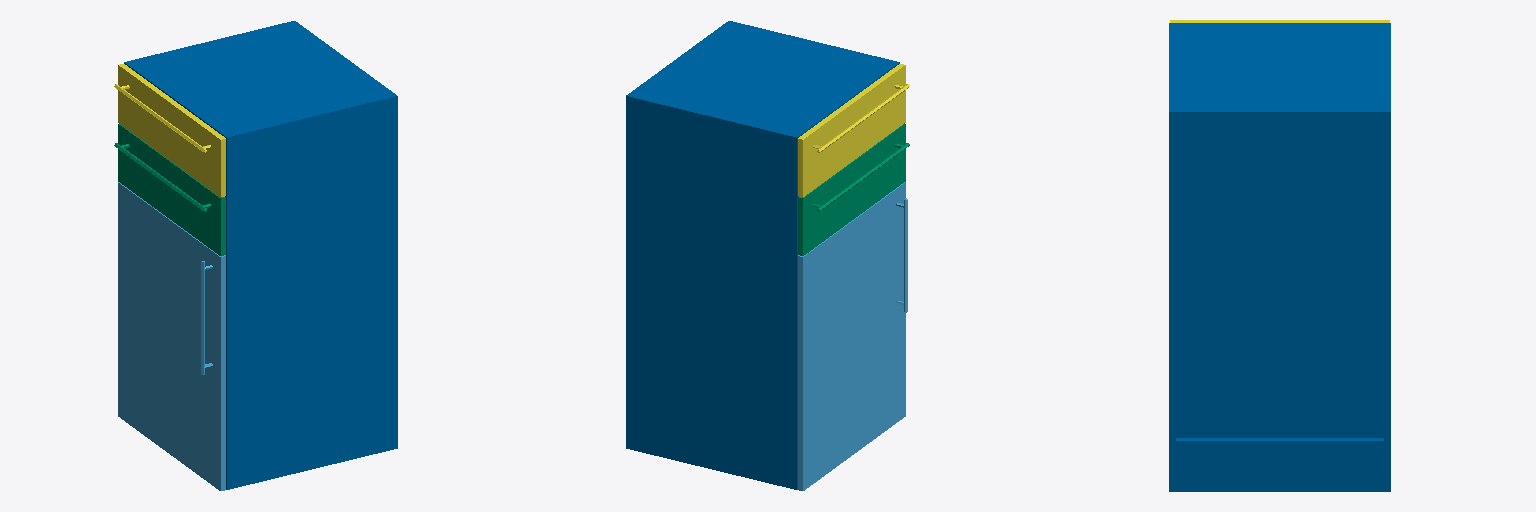
robot.urdf — partnet_2b37f9944a63ba4b4c3aee8e9d3a6ffa:
<?xml version="1.0" ?>
<robot name="partnet_2b37f9944a63ba4b4c3aee8e9d3a6ffa">
	<link name="base"/>
	<link name="link_0">
		<visual name="cabinet_door_surface-9">
			<origin xyz="0.3990322923139692 0.8448920249938966 -0.3754050304999294"/>
			<geometry>
				<mesh filename="textured_objs/original-36.obj"/>
			</geometry>
		</visual>
		<visual name="handle-10">
			<origin xyz="0.3990322923139692 0.8448920249938966 -0.3754050304999294"/>
			<geometry>
				<mesh filename="textured_objs/original-38.obj"/>
			</geometry>
		</visual>
		<visual name="handle-10">
			<origin xyz="0.3990322923139692 0.8448920249938966 -0.3754050304999294"/>
			<geometry>
				<mesh filename="textured_objs/original-39.obj"/>
			</geometry>
		</visual>
		<visual name="handle-10">
			<origin xyz="0.3990322923139692 0.8448920249938966 -0.3754050304999294"/>
			<geometry>
				<mesh filename="textured_objs/original-40.obj"/>
			</geometry>
		</visual>
		<collision>
			<origin xyz="0.3990322923139692 0.8448920249938966 -0.3754050304999294"/>
			<geometry>
				<mesh filename="textured_objs/original-36.obj"/>
			</geometry>
		</collision>
		<collision>
			<origin xyz="0.3990322923139692 0.8448920249938966 -0.3754050304999294"/>
			<geometry>
				<mesh filename="textured_objs/original-38.obj"/>
			</geometry>
		</collision>
		<collision>
			<origin xyz="0.3990322923139692 0.8448920249938966 -0.3754050304999294"/>
			<geometry>
				<mesh filename="textured_objs/original-39.obj"/>
			</geometry>
		</collision>
		<collision>
			<origin xyz="0.3990322923139692 0.8448920249938966 -0.3754050304999294"/>
			<geometry>
				<mesh filename="textured_objs/original-40.obj"/>
			</geometry>
		</collision>
	</link>
	<joint name="joint_0" type="revolute">
		<origin xyz="-0.3990322923139692 -0.8448920249938966 0.3754050304999294"/>
		<axis xyz="0 -1 0"/>
		<child link="link_0"/>
		<parent link="link_3"/>
		<limit lower="0.0" upper="1.6022122533307945"/>
	</joint>
	<link name="link_1">
		<visual name="drawer_front-29">
			<origin xyz="-0.02282584888658025 -0.27756666188211254 0.3846589922904968"/>
			<geometry>
				<mesh filename="textured_objs/original-25.obj"/>
			</geometry>
		</visual>
		<visual name="drawer_front-29">
			<origin xyz="-0.02282584888658025 -0.27756666188211254 0.3846589922904968"/>
			<geometry>
				<mesh filename="textured_objs/original-18.obj"/>
			</geometry>
		</visual>
		<visual name="drawer_side-30">
			<origin xyz="-0.02282584888658025 -0.27756666188211254 0.3846589922904968"/>
			<geometry>
				<mesh filename="textured_objs/original-23.obj"/>
			</geometry>
		</visual>
		<visual name="drawer_side-31">
			<origin xyz="-0.02282584888658025 -0.27756666188211254 0.3846589922904968"/>
			<geometry>
				<mesh filename="textured_objs/original-24.obj"/>
			</geometry>
		</visual>
		<visual name="drawer_back-32">
			<origin xyz="-0.02282584888658025 -0.27756666188211254 0.3846589922904968"/>
			<geometry>
				<mesh filename="textured_objs/original-26.obj"/>
			</geometry>
		</visual>
		<visual name="drawer_bottom-33">
			<origin xyz="-0.02282584888658025 -0.27756666188211254 0.3846589922904968"/>
			<geometry>
				<mesh filename="textured_objs/original-21.obj"/>
			</geometry>
		</visual>
		<visual name="drawer_bottom-33">
			<origin xyz="-0.02282584888658025 -0.27756666188211254 0.3846589922904968"/>
			<geometry>
				<mesh filename="textured_objs/original-22.obj"/>
			</geometry>
		</visual>
		<visual name="handle-26">
			<origin xyz="-0.02282584888658025 -0.27756666188211254 0.3846589922904968"/>
			<geometry>
				<mesh filename="textured_objs/original-30.obj"/>
			</geometry>
		</visual>
		<visual name="handle-26">
			<origin xyz="-0.02282584888658025 -0.27756666188211254 0.3846589922904968"/>
			<geometry>
				<mesh filename="textured_objs/original-31.obj"/>
			</geometry>
		</visual>
		<visual name="handle-26">
			<origin xyz="-0.02282584888658025 -0.27756666188211254 0.3846589922904968"/>
			<geometry>
				<mesh filename="textured_objs/original-32.obj"/>
			</geometry>
		</visual>
		<visual name="drawer_slider-27">
			<origin xyz="-0.02282584888658025 -0.27756666188211254 0.3846589922904968"/>
			<geometry>
				<mesh filename="textured_objs/original-28.obj"/>
			</geometry>
		</visual>
		<visual name="drawer_slider-28">
			<origin xyz="-0.02282584888658025 -0.27756666188211254 0.3846589922904968"/>
			<geometry>
				<mesh filename="textured_objs/original-27.obj"/>
			</geometry>
		</visual>
		<collision>
			<origin xyz="-0.02282584888658025 -0.27756666188211254 0.3846589922904968"/>
			<geometry>
				<mesh filename="textured_objs/original-25.obj"/>
			</geometry>
		</collision>
		<collision>
			<origin xyz="-0.02282584888658025 -0.27756666188211254 0.3846589922904968"/>
			<geometry>
				<mesh filename="textured_objs/original-18.obj"/>
			</geometry>
		</collision>
		<collision>
			<origin xyz="-0.02282584888658025 -0.27756666188211254 0.3846589922904968"/>
			<geometry>
				<mesh filename="textured_objs/original-23.obj"/>
			</geometry>
		</collision>
		<collision>
			<origin xyz="-0.02282584888658025 -0.27756666188211254 0.3846589922904968"/>
			<geometry>
				<mesh filename="textured_objs/original-24.obj"/>
			</geometry>
		</collision>
		<collision>
			<origin xyz="-0.02282584888658025 -0.27756666188211254 0.3846589922904968"/>
			<geometry>
				<mesh filename="textured_objs/original-26.obj"/>
			</geometry>
		</collision>
		<collision>
			<origin xyz="-0.02282584888658025 -0.27756666188211254 0.3846589922904968"/>
			<geometry>
				<mesh filename="textured_objs/original-21.obj"/>
			</geometry>
		</collision>
		<collision>
			<origin xyz="-0.02282584888658025 -0.27756666188211254 0.3846589922904968"/>
			<geometry>
				<mesh filename="textured_objs/original-22.obj"/>
			</geometry>
		</collision>
		<collision>
			<origin xyz="-0.02282584888658025 -0.27756666188211254 0.3846589922904968"/>
			<geometry>
				<mesh filename="textured_objs/original-30.obj"/>
			</geometry>
		</collision>
		<collision>
			<origin xyz="-0.02282584888658025 -0.27756666188211254 0.3846589922904968"/>
			<geometry>
				<mesh filename="textured_objs/original-31.obj"/>
			</geometry>
		</collision>
		<collision>
			<origin xyz="-0.02282584888658025 -0.27756666188211254 0.3846589922904968"/>
			<geometry>
				<mesh filename="textured_objs/original-32.obj"/>
			</geometry>
		</collision>
		<collision>
			<origin xyz="-0.02282584888658025 -0.27756666188211254 0.3846589922904968"/>
			<geometry>
				<mesh filename="textured_objs/original-28.obj"/>
			</geometry>
		</collision>
		<collision>
			<origin xyz="-0.02282584888658025 -0.27756666188211254 0.3846589922904968"/>
			<geometry>
				<mesh filename="textured_objs/original-27.obj"/>
			</geometry>
		</collision>
	</link>
	<joint name="joint_1" type="prismatic">
		<origin xyz="0.02282584888658025 0.27756666188211254 -0.3846589922904968"/>
		<axis xyz="0 0 1"/>
		<child link="link_1"/>
		<parent link="link_3"/>
		<limit lower="0" upper="0.6600000000000001"/>
	</joint>
	<link name="link_2">
		<visual name="drawer_front-18">
			<origin xyz="-0.022883973265345255 -0.5506872722285259 0.38465899229049705"/>
			<geometry>
				<mesh filename="textured_objs/original-49.obj"/>
			</geometry>
		</visual>
		<visual name="drawer_front-18">
			<origin xyz="-0.022883973265345255 -0.5506872722285259 0.38465899229049705"/>
			<geometry>
				<mesh filename="textured_objs/original-42.obj"/>
			</geometry>
		</visual>
		<visual name="drawer_side-19">
			<origin xyz="-0.022883973265345255 -0.5506872722285259 0.38465899229049705"/>
			<geometry>
				<mesh filename="textured_objs/original-48.obj"/>
			</geometry>
		</visual>
		<visual name="drawer_side-20">
			<origin xyz="-0.022883973265345255 -0.5506872722285259 0.38465899229049705"/>
			<geometry>
				<mesh filename="textured_objs/original-47.obj"/>
			</geometry>
		</visual>
		<visual name="drawer_back-21">
			<origin xyz="-0.022883973265345255 -0.5506872722285259 0.38465899229049705"/>
			<geometry>
				<mesh filename="textured_objs/original-50.obj"/>
			</geometry>
		</visual>
		<visual name="drawer_bottom-22">
			<origin xyz="-0.022883973265345255 -0.5506872722285259 0.38465899229049705"/>
			<geometry>
				<mesh filename="textured_objs/original-45.obj"/>
			</geometry>
		</visual>
		<visual name="drawer_bottom-22">
			<origin xyz="-0.022883973265345255 -0.5506872722285259 0.38465899229049705"/>
			<geometry>
				<mesh filename="textured_objs/original-46.obj"/>
			</geometry>
		</visual>
		<visual name="handle-8">
			<origin xyz="-0.022883973265345255 -0.5506872722285259 0.38465899229049705"/>
			<geometry>
				<mesh filename="textured_objs/original-54.obj"/>
			</geometry>
		</visual>
		<visual name="handle-8">
			<origin xyz="-0.022883973265345255 -0.5506872722285259 0.38465899229049705"/>
			<geometry>
				<mesh filename="textured_objs/original-55.obj"/>
			</geometry>
		</visual>
		<visual name="handle-8">
			<origin xyz="-0.022883973265345255 -0.5506872722285259 0.38465899229049705"/>
			<geometry>
				<mesh filename="textured_objs/original-56.obj"/>
			</geometry>
		</visual>
		<visual name="drawer_slider-23">
			<origin xyz="-0.022883973265345255 -0.5506872722285259 0.38465899229049705"/>
			<geometry>
				<mesh filename="textured_objs/original-52.obj"/>
			</geometry>
		</visual>
		<visual name="drawer_slider-24">
			<origin xyz="-0.022883973265345255 -0.5506872722285259 0.38465899229049705"/>
			<geometry>
				<mesh filename="textured_objs/original-51.obj"/>
			</geometry>
		</visual>
		<collision>
			<origin xyz="-0.022883973265345255 -0.5506872722285259 0.38465899229049705"/>
			<geometry>
				<mesh filename="textured_objs/original-49.obj"/>
			</geometry>
		</collision>
		<collision>
			<origin xyz="-0.022883973265345255 -0.5506872722285259 0.38465899229049705"/>
			<geometry>
				<mesh filename="textured_objs/original-42.obj"/>
			</geometry>
		</collision>
		<collision>
			<origin xyz="-0.022883973265345255 -0.5506872722285259 0.38465899229049705"/>
			<geometry>
				<mesh filename="textured_objs/original-48.obj"/>
			</geometry>
		</collision>
		<collision>
			<origin xyz="-0.022883973265345255 -0.5506872722285259 0.38465899229049705"/>
			<geometry>
				<mesh filename="textured_objs/original-47.obj"/>
			</geometry>
		</collision>
		<collision>
			<origin xyz="-0.022883973265345255 -0.5506872722285259 0.38465899229049705"/>
			<geometry>
				<mesh filename="textured_objs/original-50.obj"/>
			</geometry>
		</collision>
		<collision>
			<origin xyz="-0.022883973265345255 -0.5506872722285259 0.38465899229049705"/>
			<geometry>
				<mesh filename="textured_objs/original-45.obj"/>
			</geometry>
		</collision>
		<collision>
			<origin xyz="-0.022883973265345255 -0.5506872722285259 0.38465899229049705"/>
			<geometry>
				<mesh filename="textured_objs/original-46.obj"/>
			</geometry>
		</collision>
		<collision>
			<origin xyz="-0.022883973265345255 -0.5506872722285259 0.38465899229049705"/>
			<geometry>
				<mesh filename="textured_objs/original-54.obj"/>
			</geometry>
		</collision>
		<collision>
			<origin xyz="-0.022883973265345255 -0.5506872722285259 0.38465899229049705"/>
			<geometry>
				<mesh filename="textured_objs/original-55.obj"/>
			</geometry>
		</collision>
		<collision>
			<origin xyz="-0.022883973265345255 -0.5506872722285259 0.38465899229049705"/>
			<geometry>
				<mesh filename="textured_objs/original-56.obj"/>
			</geometry>
		</collision>
		<collision>
			<origin xyz="-0.022883973265345255 -0.5506872722285259 0.38465899229049705"/>
			<geometry>
				<mesh filename="textured_objs/original-52.obj"/>
			</geometry>
		</collision>
		<collision>
			<origin xyz="-0.022883973265345255 -0.5506872722285259 0.38465899229049705"/>
			<geometry>
				<mesh filename="textured_objs/original-51.obj"/>
			</geometry>
		</collision>
	</link>
	<joint name="joint_2" type="prismatic">
		<origin xyz="0.022883973265345255 0.5506872722285259 -0.38465899229049705"/>
		<axis xyz="0 0 1"/>
		<child link="link_2"/>
		<parent link="link_3"/>
		<limit lower="0" upper="0.6600000000000001"/>
	</joint>
	<link name="link_3">
		<visual name="shelf-3">
			<origin xyz="0 0 0"/>
			<geometry>
				<mesh filename="textured_objs/original-34.obj"/>
			</geometry>
		</visual>
		<visual name="vertical_side_panel-11">
			<origin xyz="0 0 0"/>
			<geometry>
				<mesh filename="textured_objs/original-7.obj"/>
			</geometry>
		</visual>
		<visual name="vertical_side_panel-11">
			<origin xyz="0 0 0"/>
			<geometry>
				<mesh filename="textured_objs/original-6.obj"/>
			</geometry>
		</visual>
		<visual name="vertical_side_panel-12">
			<origin xyz="0 0 0"/>
			<geometry>
				<mesh filename="textured_objs/original-4.obj"/>
			</geometry>
		</visual>
		<visual name="vertical_side_panel-12">
			<origin xyz="0 0 0"/>
			<geometry>
				<mesh filename="textured_objs/original-3.obj"/>
			</geometry>
		</visual>
		<visual name="back_panel-13">
			<origin xyz="0 0 0"/>
			<geometry>
				<mesh filename="textured_objs/original-15.obj"/>
			</geometry>
		</visual>
		<visual name="bottom_panel-14">
			<origin xyz="0 0 0"/>
			<geometry>
				<mesh filename="textured_objs/original-10.obj"/>
			</geometry>
		</visual>
		<visual name="bottom_panel-14">
			<origin xyz="0 0 0"/>
			<geometry>
				<mesh filename="textured_objs/original-9.obj"/>
			</geometry>
		</visual>
		<visual name="top_panel-15">
			<origin xyz="0 0 0"/>
			<geometry>
				<mesh filename="textured_objs/original-13.obj"/>
			</geometry>
		</visual>
		<visual name="top_panel-15">
			<origin xyz="0 0 0"/>
			<geometry>
				<mesh filename="textured_objs/original-12.obj"/>
			</geometry>
		</visual>
		<visual name="frame_horizontal_bar-16">
			<origin xyz="0 0 0"/>
			<geometry>
				<mesh filename="textured_objs/original-16.obj"/>
			</geometry>
		</visual>
		<visual name="frame_horizontal_bar-17">
			<origin xyz="0 0 0"/>
			<geometry>
				<mesh filename="textured_objs/original-14.obj"/>
			</geometry>
		</visual>
		<collision>
			<origin xyz="0 0 0"/>
			<geometry>
				<mesh filename="textured_objs/original-34.obj"/>
			</geometry>
		</collision>
		<collision>
			<origin xyz="0 0 0"/>
			<geometry>
				<mesh filename="textured_objs/original-7.obj"/>
			</geometry>
		</collision>
		<collision>
			<origin xyz="0 0 0"/>
			<geometry>
				<mesh filename="textured_objs/original-6.obj"/>
			</geometry>
		</collision>
		<collision>
			<origin xyz="0 0 0"/>
			<geometry>
				<mesh filename="textured_objs/original-4.obj"/>
			</geometry>
		</collision>
		<collision>
			<origin xyz="0 0 0"/>
			<geometry>
				<mesh filename="textured_objs/original-3.obj"/>
			</geometry>
		</collision>
		<collision>
			<origin xyz="0 0 0"/>
			<geometry>
				<mesh filename="textured_objs/original-15.obj"/>
			</geometry>
		</collision>
		<collision>
			<origin xyz="0 0 0"/>
			<geometry>
				<mesh filename="textured_objs/original-10.obj"/>
			</geometry>
		</collision>
		<collision>
			<origin xyz="0 0 0"/>
			<geometry>
				<mesh filename="textured_objs/original-9.obj"/>
			</geometry>
		</collision>
		<collision>
			<origin xyz="0 0 0"/>
			<geometry>
				<mesh filename="textured_objs/original-13.obj"/>
			</geometry>
		</collision>
		<collision>
			<origin xyz="0 0 0"/>
			<geometry>
				<mesh filename="textured_objs/original-12.obj"/>
			</geometry>
		</collision>
		<collision>
			<origin xyz="0 0 0"/>
			<geometry>
				<mesh filename="textured_objs/original-16.obj"/>
			</geometry>
		</collision>
		<collision>
			<origin xyz="0 0 0"/>
			<geometry>
				<mesh filename="textured_objs/original-14.obj"/>
			</geometry>
		</collision>
	</link>
	<joint name="joint_3" type="fixed">
		<origin rpy="1.570796326794897 0 -1.570796326794897" xyz="0 0 0"/>
		<child link="link_3"/>
		<parent link="base"/>
	</joint>
</robot>

--- Facts derived from the render (not from the file) ---
3 views of the same robot in one strip: view 1: azimuth 30°, elevation 25°; view 2: azimuth 150°, elevation 25°; view 3: azimuth 270°, elevation 25° (orthographic).
Model partnet_2b37f9944a63ba4b4c3aee8e9d3a6ffa with 5 links and 4 joints (1 revolute, 2 prismatic, 1 fixed), rooted at base, posed all joints at 0.
Links seen in each view (by area): view 1: link_3, link_0, link_2, link_1; view 2: link_3, link_0, link_2, link_1; view 3: link_3, link_2.
Boxes of the visible links, x1=… form: link_3: x1=124, y1=21, x2=397, y2=489; link_0: x1=118, y1=182, x2=225, y2=490; link_2: x1=114, y1=64, x2=225, y2=197; link_1: x1=114, y1=124, x2=225, y2=255; link_3: x1=626, y1=21, x2=899, y2=489; link_0: x1=798, y1=182, x2=907, y2=490; link_2: x1=798, y1=64, x2=909, y2=196; link_1: x1=798, y1=123, x2=909, y2=255; link_3: x1=1169, y1=23, x2=1390, y2=491; link_2: x1=1170, y1=20, x2=1389, y2=22.
Bounding box of the posed robot: 0.8577 × 0.8152 × 1.54 m (x, y, z).
Meshes: 40 distinct files referenced, 40 mesh visuals loaded (40 OBJ).
